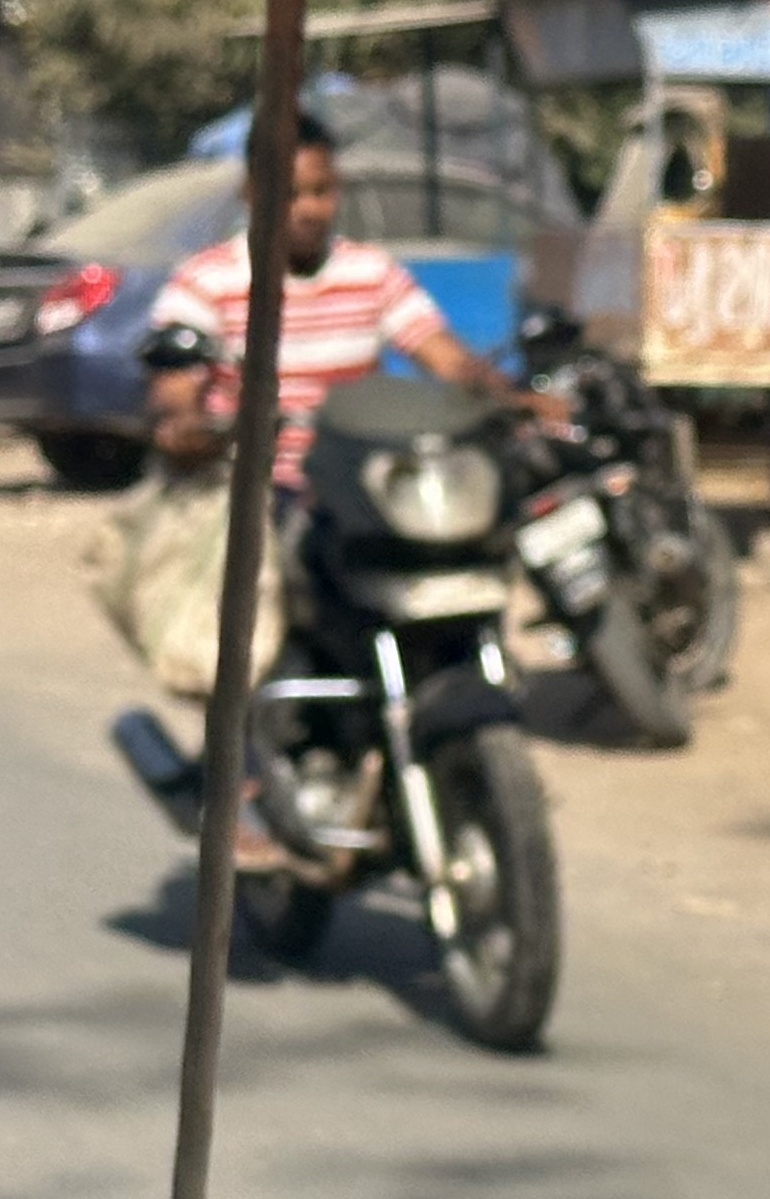BikeWithRider: (61, 83, 718, 1067)
NoHelmet: (212, 91, 381, 273)
